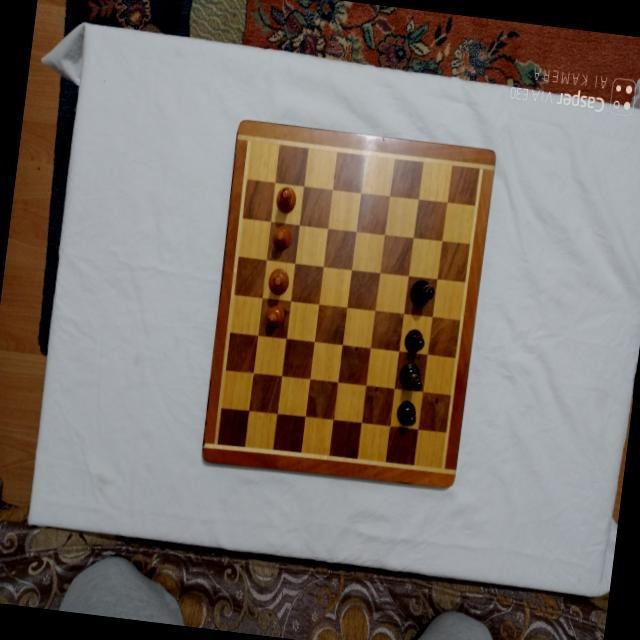black-bishop: (408, 275, 436, 308), (398, 360, 426, 391)
black-pawn: (395, 398, 418, 426), (402, 328, 425, 354)
white-bishop: (266, 266, 290, 296), (275, 185, 298, 215)
white-pawn: (269, 223, 292, 252), (264, 301, 286, 328)
